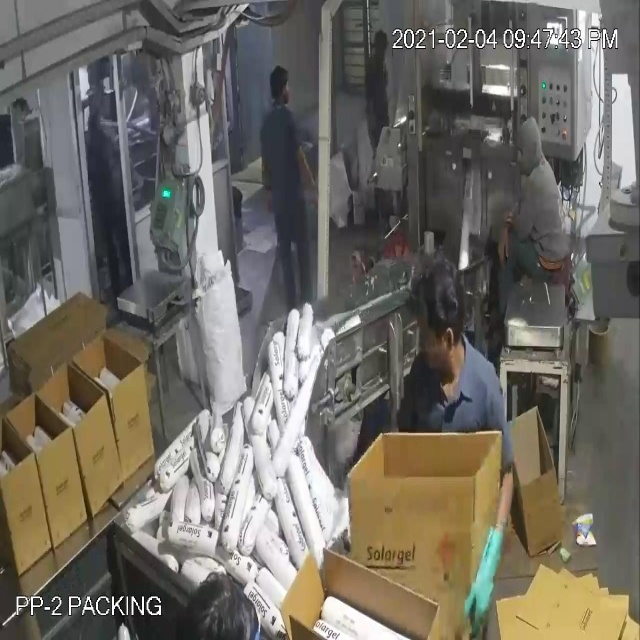Guantes: (455, 492, 508, 631)
Sin_guantes: (296, 135, 320, 204), (495, 201, 514, 276)
